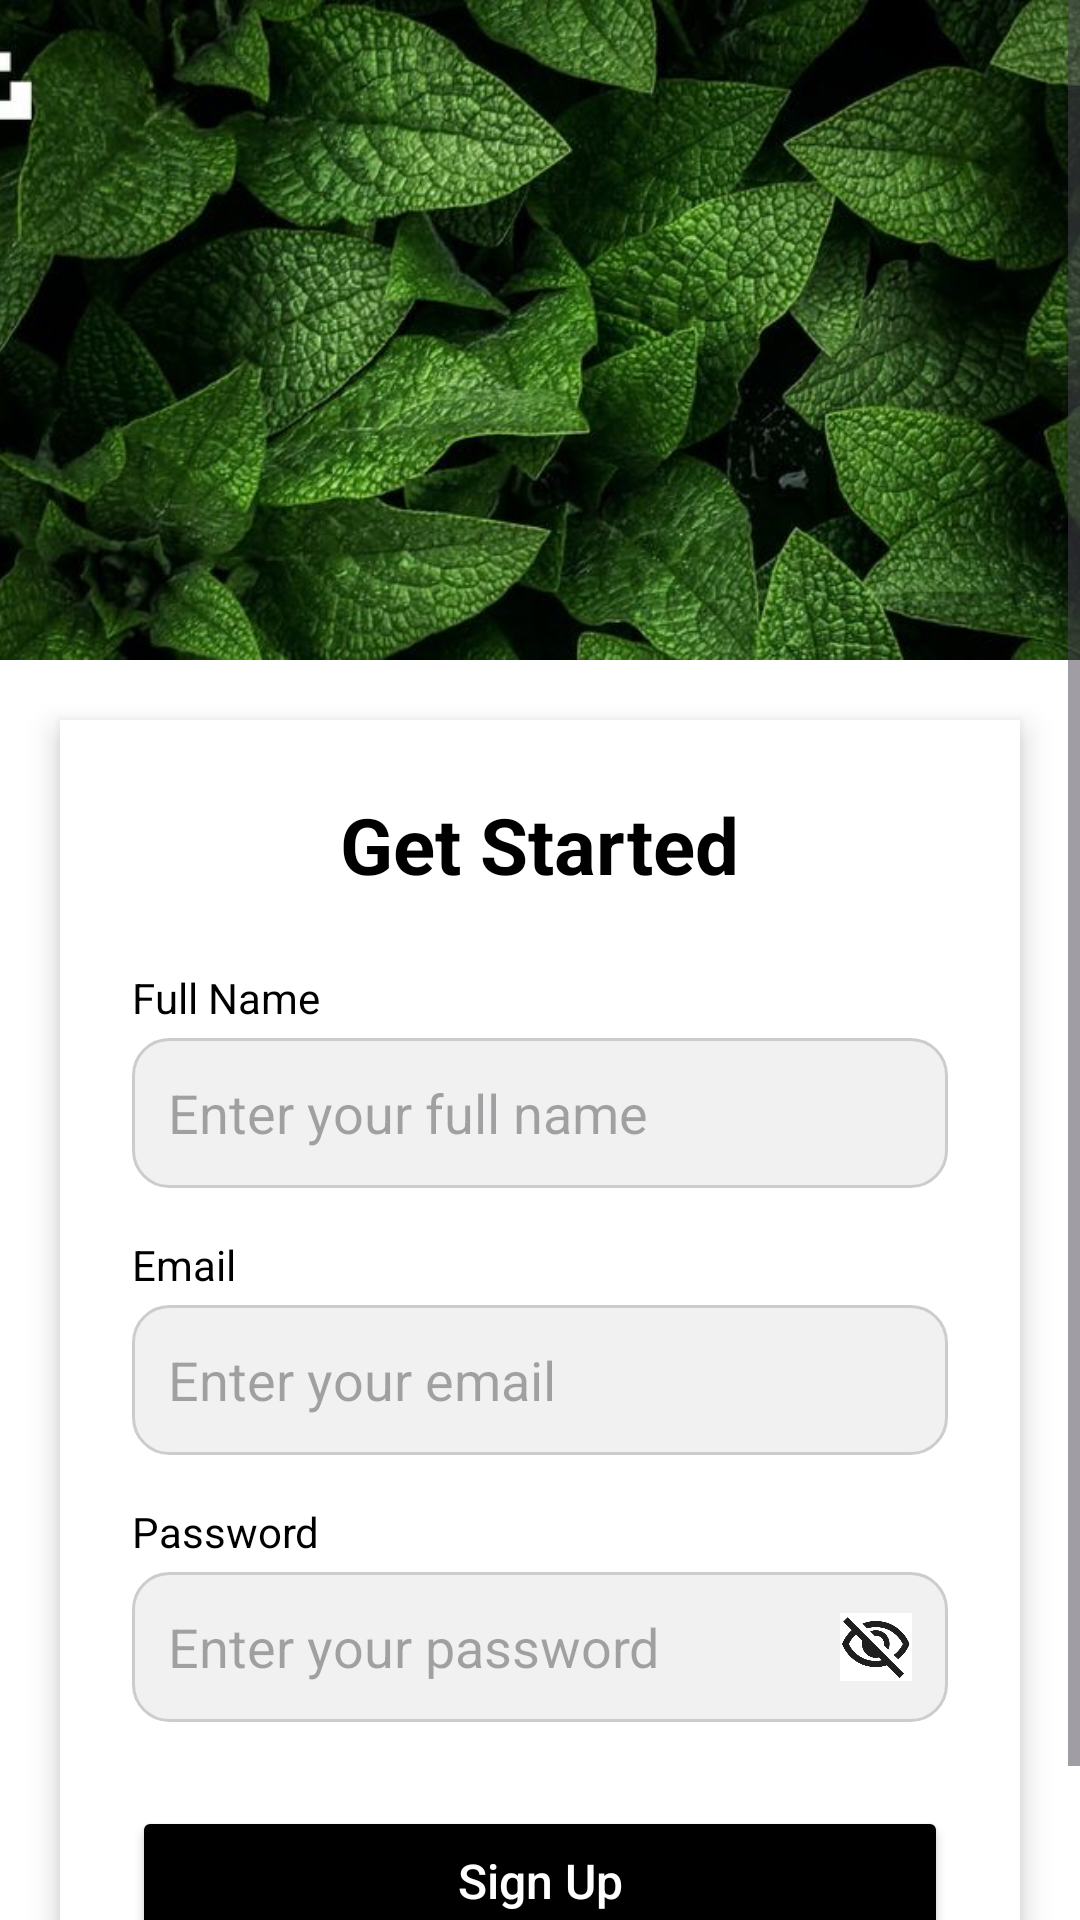

Icon bounding boxes for this 1080×1920 phone screenshot, format (x1, y1, x2, y2):
not visible: (840, 1613, 912, 1681)
